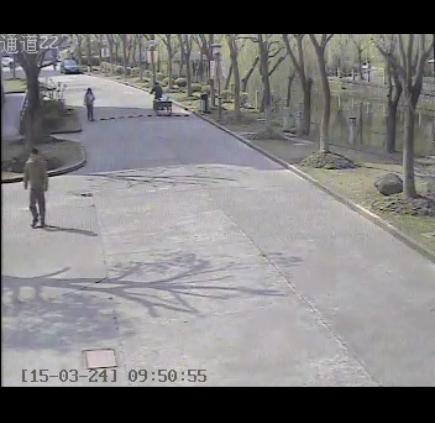person: (21, 144, 51, 231), (82, 84, 98, 123), (146, 79, 166, 100)
